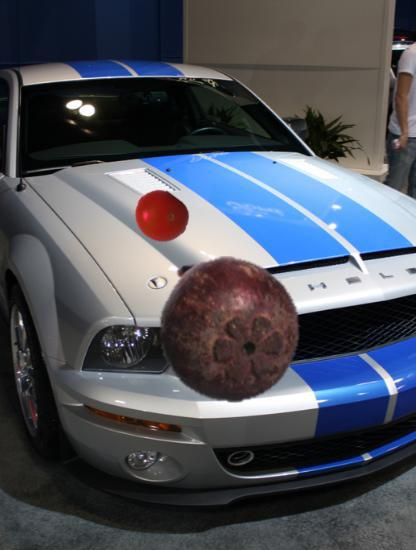Mangostan: (156, 256, 304, 404)
Tomato: (134, 189, 189, 244)
